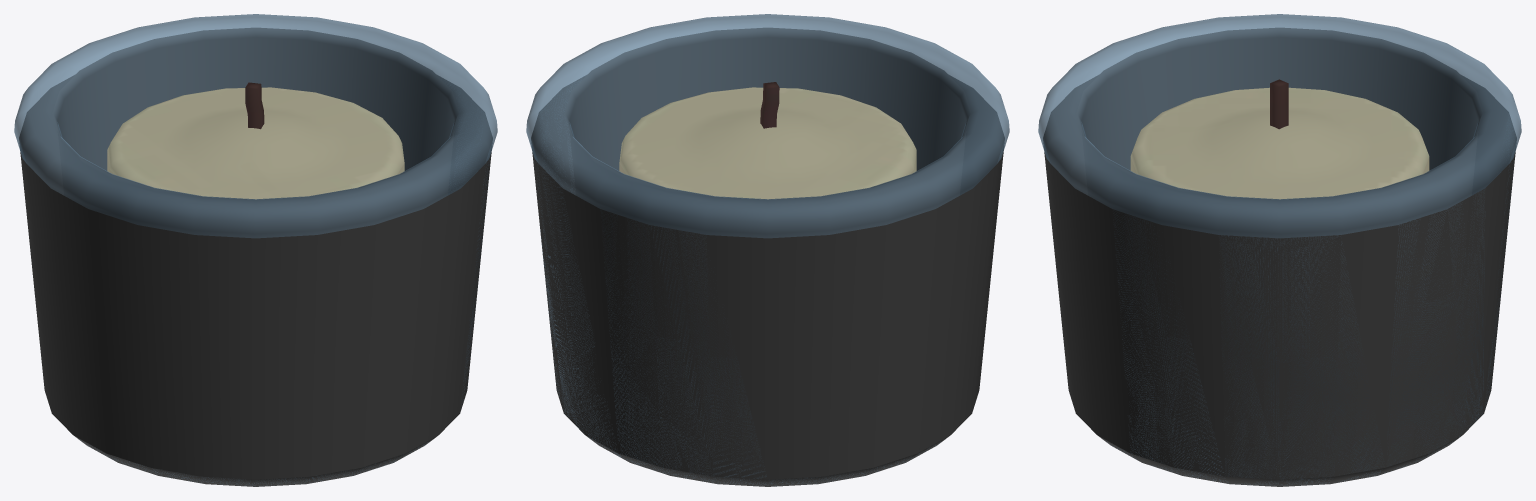
3 views of the same model, side by side, from view 1: azimuth 30°, elevation 25°; view 2: azimuth 150°, elevation 25°; view 3: azimuth 270°, elevation 25° (orthographic).
Bounding box in the file's own units: 3.24 × 2.36 × 3.24.
Materials: 3 (2 with a texture image).
